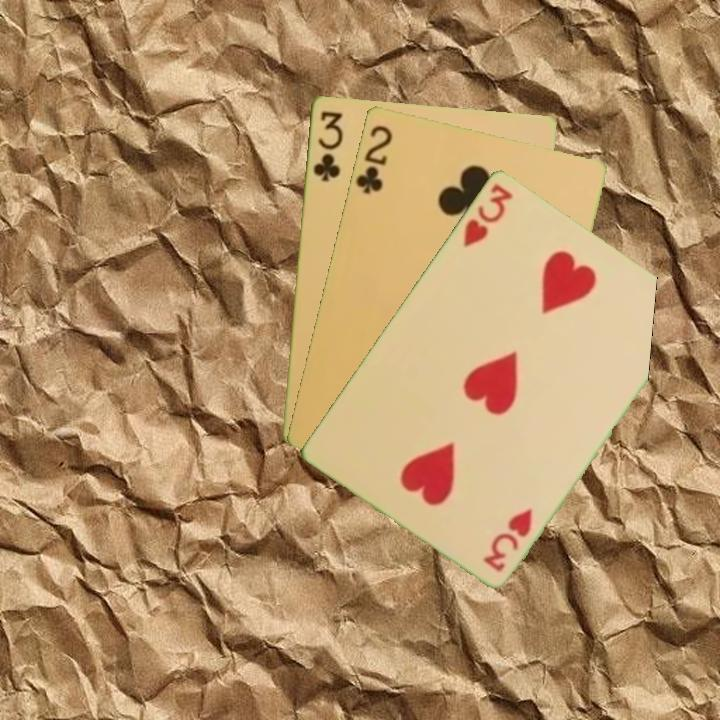2c: (352, 121, 395, 197)
3c: (309, 107, 345, 184)
3h: (479, 503, 536, 575), (459, 179, 516, 249)
